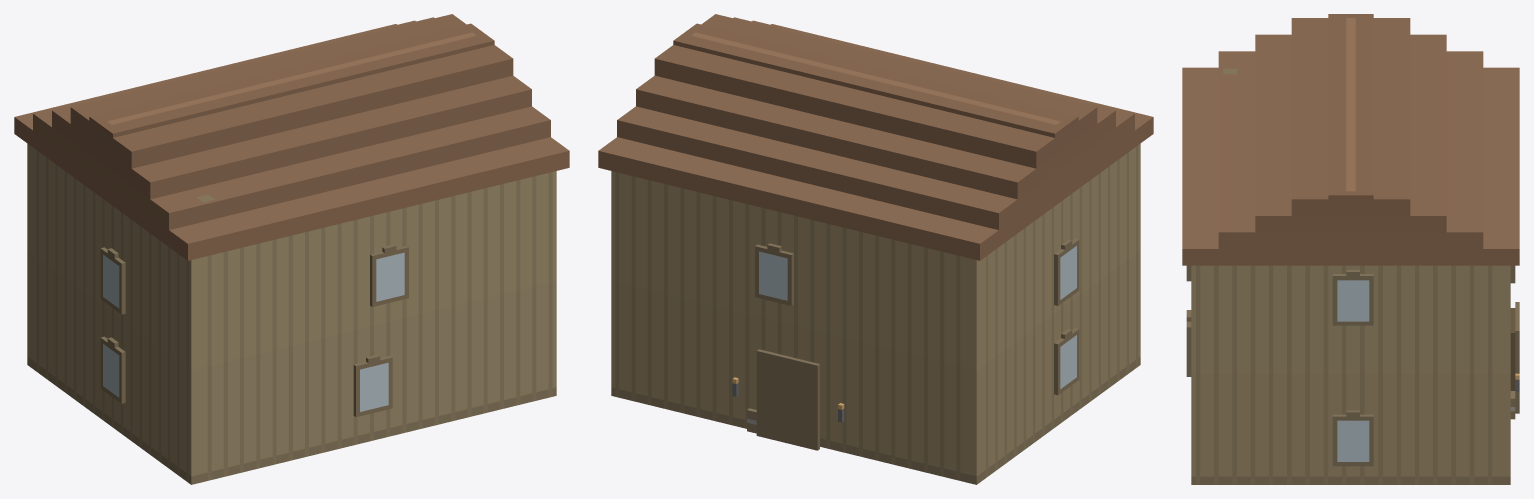
Rendered from tienda_03.glb.
The picture shows the model from 3 angles, left to right: view 1: azimuth 30°, elevation 25°; view 2: azimuth 150°, elevation 25°; view 3: azimuth 270°, elevation 25°; orthographic projection. The views are drawn at different scales.
Visible parts, largest first — view 1: tienda_03; view 2: tienda_03; view 3: tienda_03.
Boxes of the visible parts, bbox=[...] form: tienda_03: bbox=[14, 14, 569, 484]; tienda_03: bbox=[598, 14, 1153, 484]; tienda_03: bbox=[1182, 14, 1519, 484].
Size of the model in its own units: 9.4 by 7.1 by 7.4.
